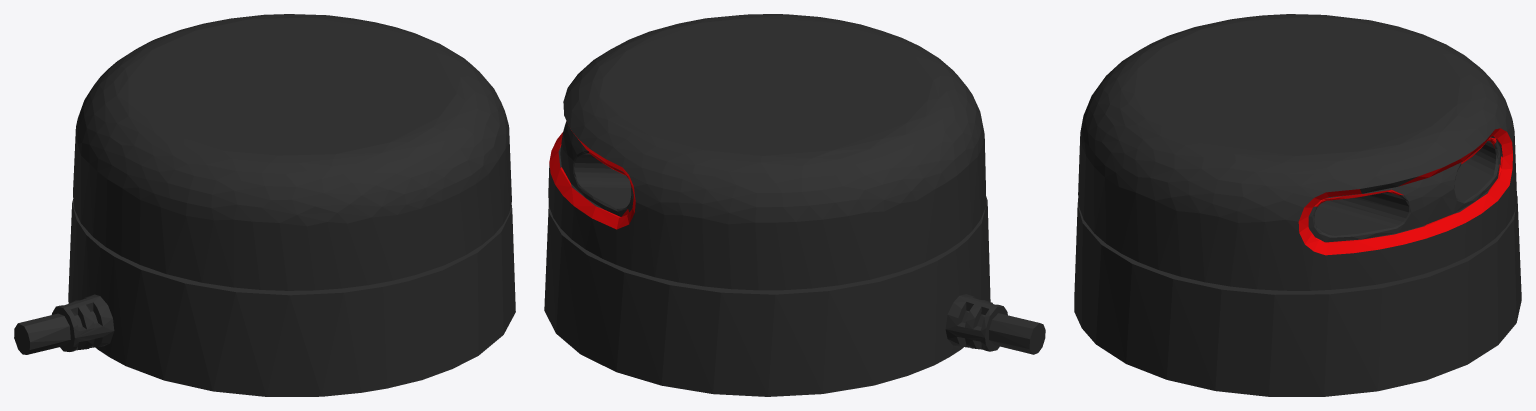
The model's file is rplidar_a1.dae.
3 renders of one model, left to right at view 1: azimuth 30°, elevation 25°; view 2: azimuth 150°, elevation 25°; view 3: azimuth 270°, elevation 25°, orthographic.
Visible parts, largest first — view 1: RPLIDAR_v4; view 2: RPLIDAR_v4; view 3: RPLIDAR_v4.
Boxes of the visible parts, box(x1,y1,x2,y2) form: RPLIDAR_v4: box(14, 14, 515, 396); RPLIDAR_v4: box(544, 14, 1045, 396); RPLIDAR_v4: box(1074, 14, 1521, 396).
Bounding box in the file's own units: 0.0908 × 0.076 × 0.0405.
